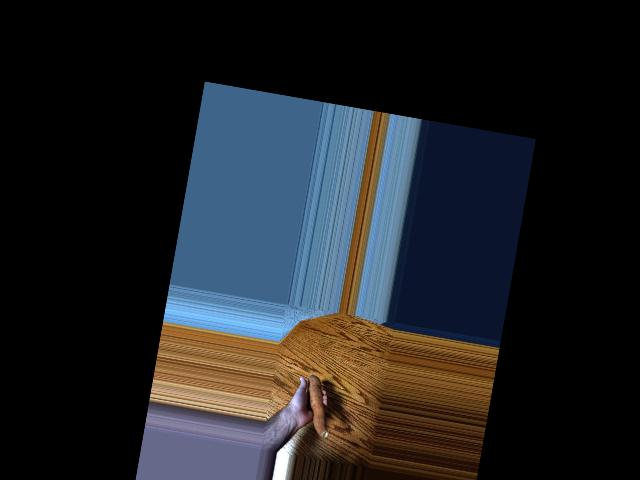sweet_potato: (298, 374, 337, 440)
